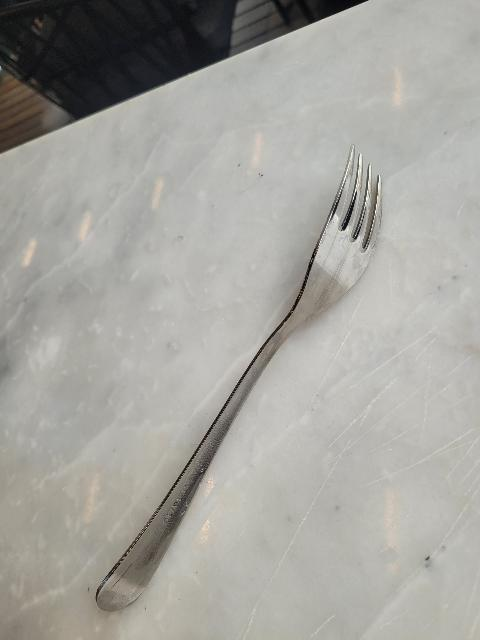Metal: (90, 140, 403, 620)
